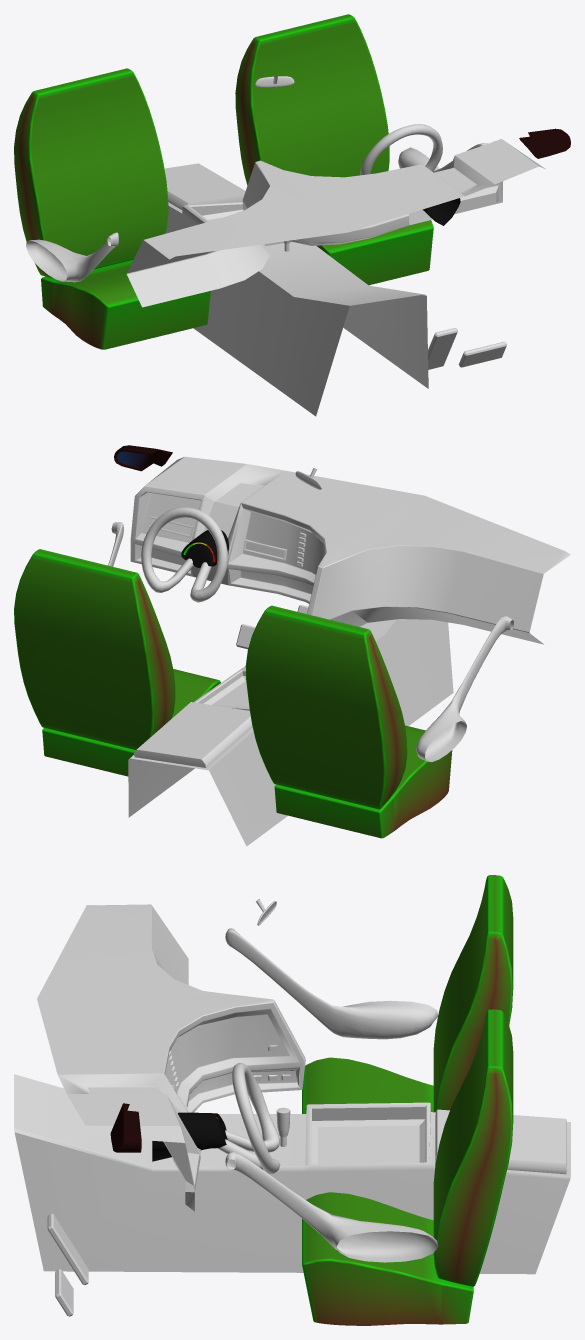
Rendered from VRCar_Interior_low.fbx.
3 renders of one model, top to bottom at view 1: azimuth 30°, elevation 25°; view 2: azimuth 150°, elevation 25°; view 3: azimuth 270°, elevation 25°, orthographic. The views are drawn at different scales.
Parts seen in each view (by area): view 1: seat_low, console_low, dash_low, armrest_low, pedals_low, steeringWheel, mirror_low, bosskit_low; view 2: seat_low, dash_low, console_low, armrest_low, steeringWheel, mirror_low, bosskit_low; view 3: console_low, seat_low, dash_low, armrest_low, steeringWheel, bosskit_low, pedals_low, mirror_low.
Boxes of the visible parts, x1,y1,x2,y2 form: seat_low: (14, 14, 433, 349); console_low: (164, 163, 428, 416); dash_low: (126, 139, 545, 307); armrest_low: (26, 143, 487, 282); pedals_low: (428, 328, 506, 369); steeringWheel: (360, 124, 442, 175); mirror_low: (519, 128, 570, 158); bosskit_low: (422, 198, 460, 225); seat_low: (14, 549, 452, 838); dash_low: (130, 456, 570, 644); console_low: (128, 619, 453, 846); armrest_low: (108, 522, 513, 761); steeringWheel: (141, 507, 228, 602); mirror_low: (114, 445, 172, 471); bosskit_low: (181, 530, 228, 567); console_low: (14, 1074, 570, 1274); seat_low: (302, 875, 513, 1325); dash_low: (37, 904, 305, 1212); armrest_low: (225, 928, 438, 1262); steeringWheel: (217, 1063, 280, 1174); bosskit_low: (152, 1112, 227, 1161); pedals_low: (47, 1213, 88, 1316); mirror_low: (110, 1103, 141, 1152).
Size of the model in its own units: 182 by 112 by 169.
